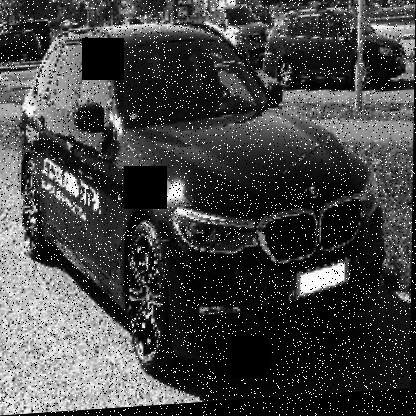not_emergency: (12, 8, 391, 392)
